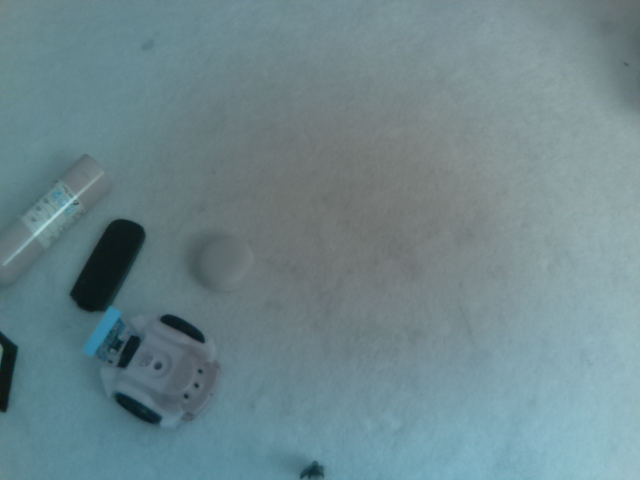board: (78, 304, 128, 359)
chassis: (73, 301, 232, 438)
